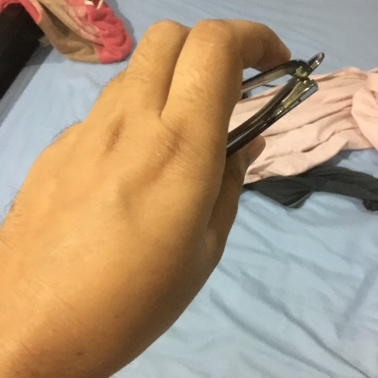glasses: (157, 59, 334, 139)
